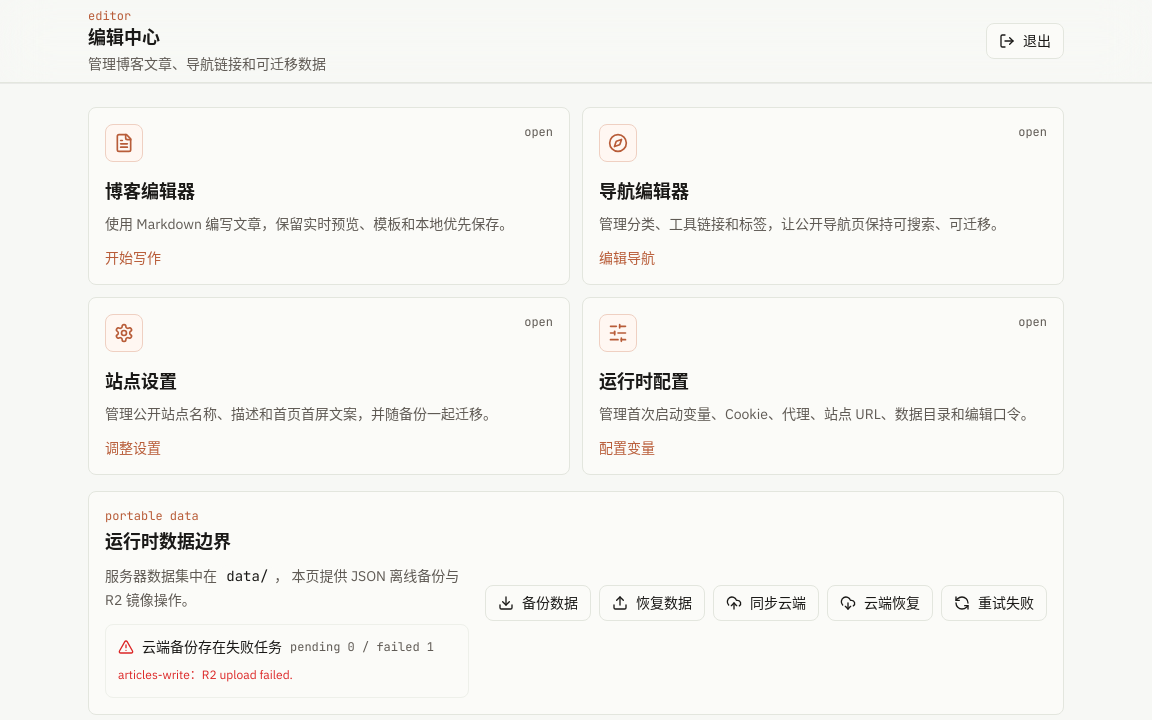
EditorHomePage › shows failed remote backup health and retries failed tasks
Click the button "重试失败": (994, 603) [941, 585, 1047, 621]
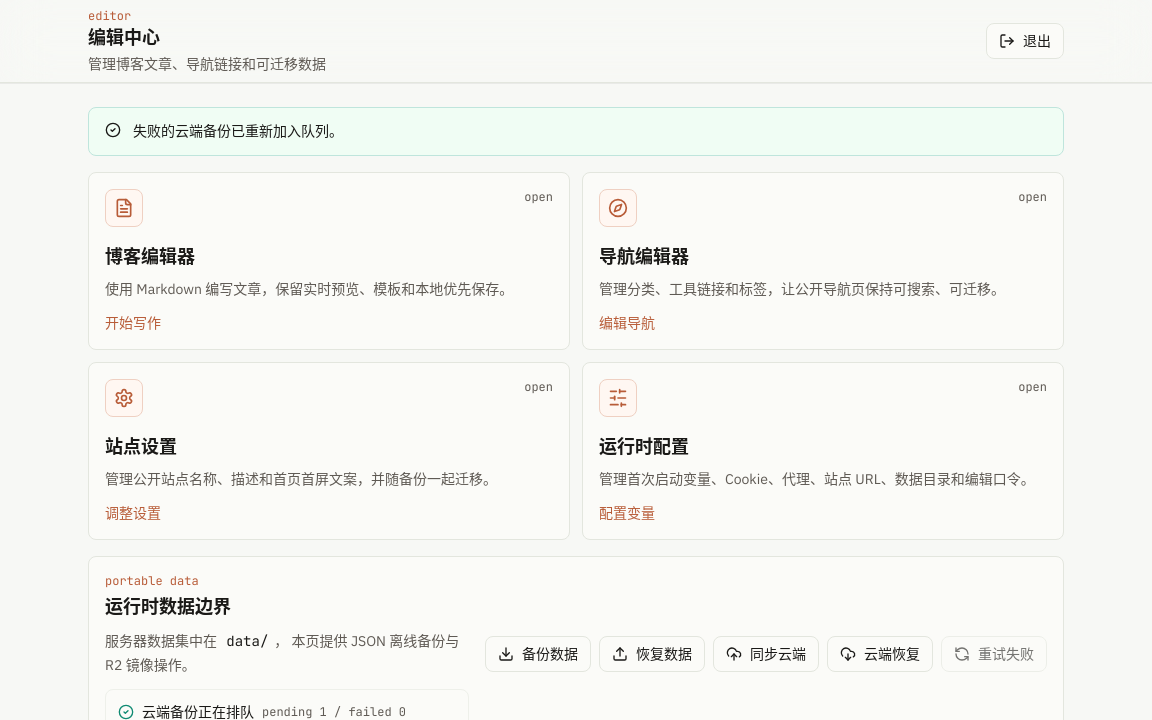
expect the text "失败的云端备份已重新加入队列。" is shown: met, box [133, 120, 343, 143]
expect the text "pending 1 / failed 0" is shown: met, box [262, 704, 406, 719]
